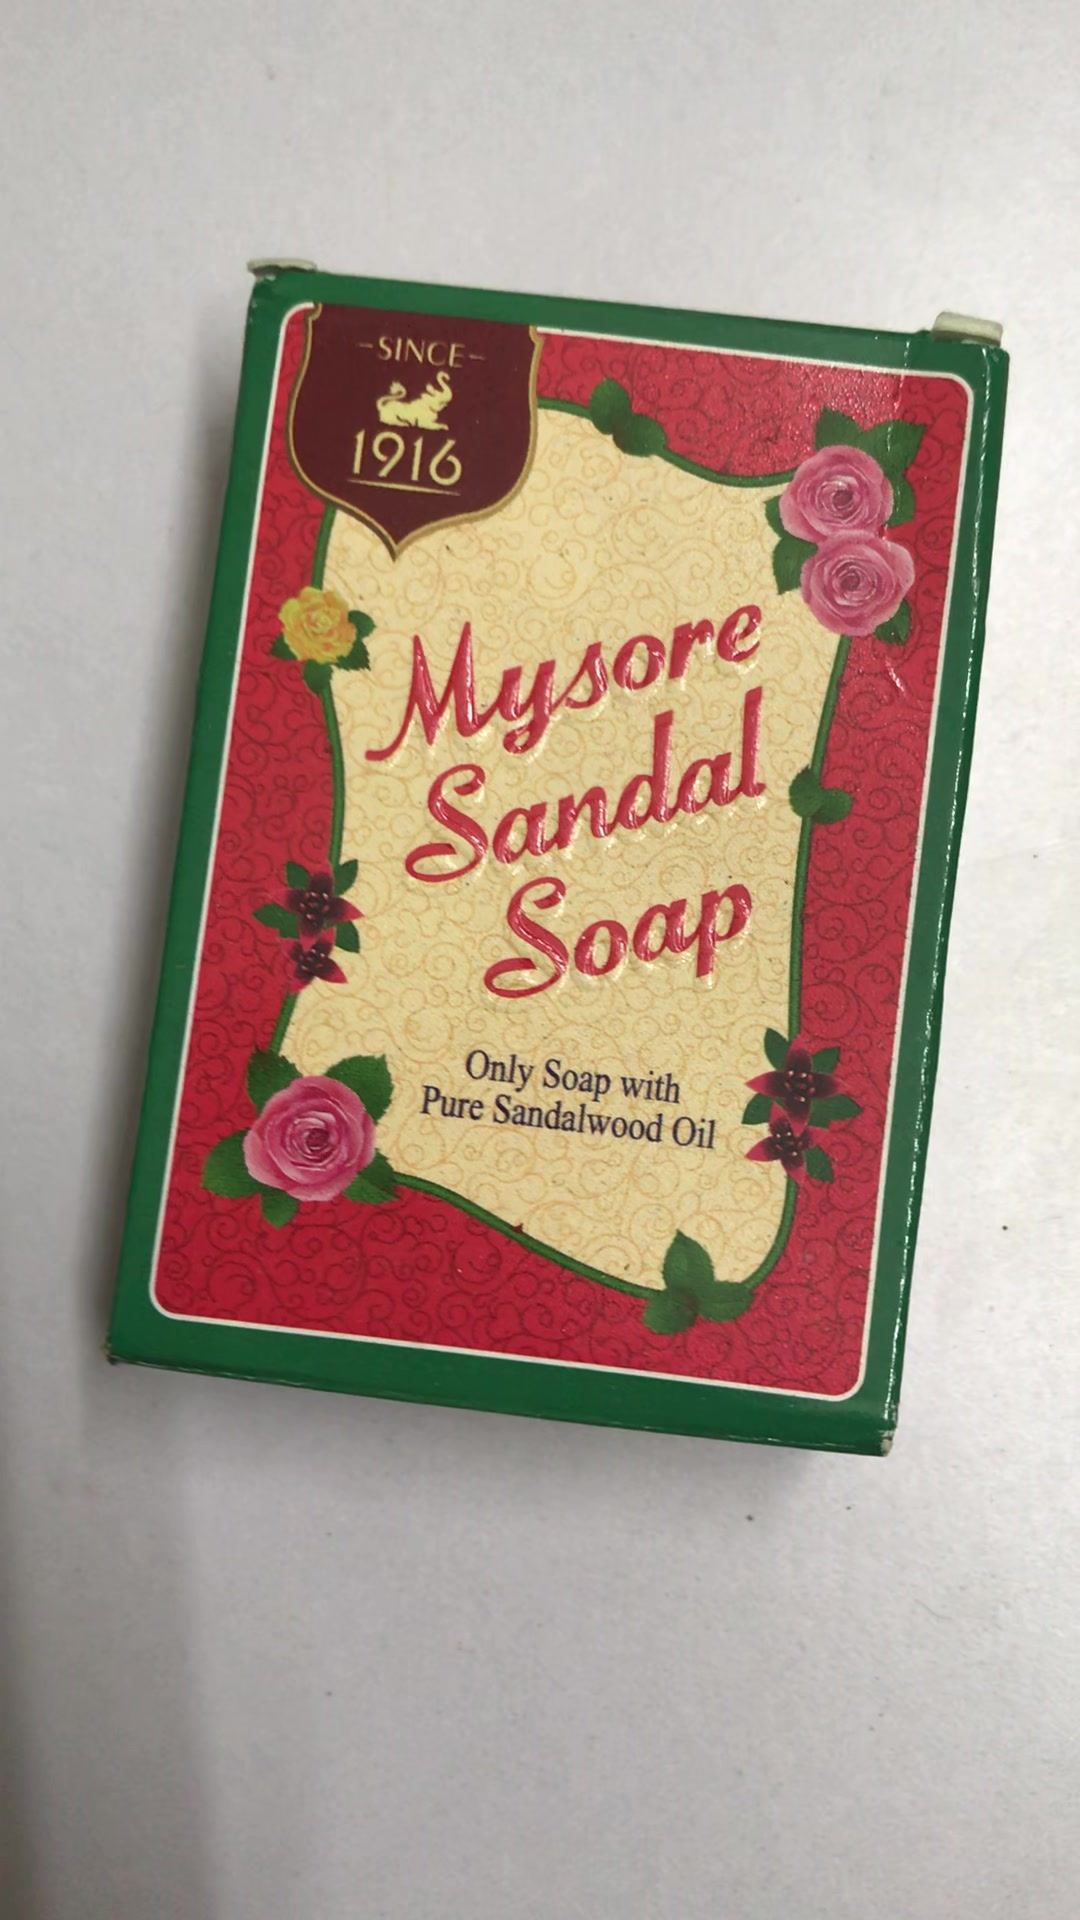mysore sandal soap: (107, 261, 1013, 1466)
